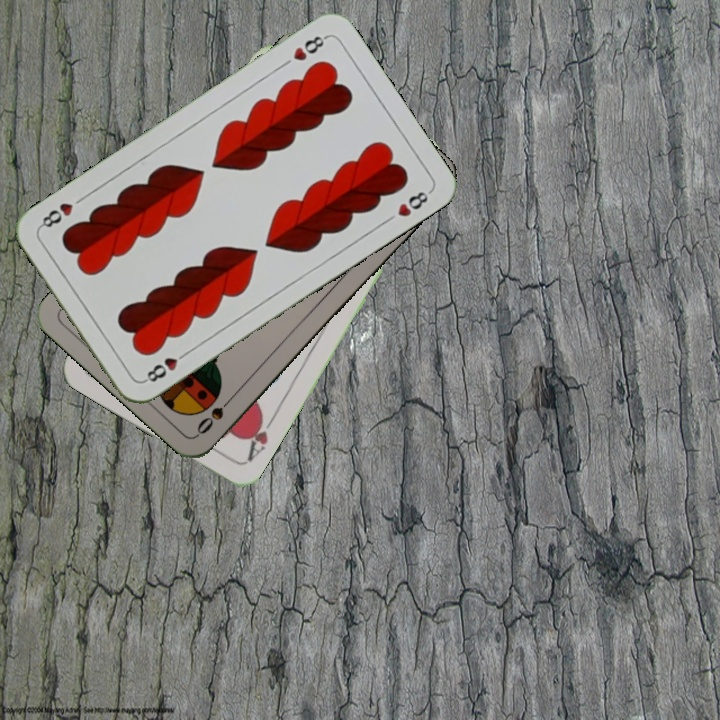H8: (139, 346, 192, 385), (288, 31, 331, 64)
HA: (242, 410, 278, 465)
SO: (192, 390, 238, 437)
